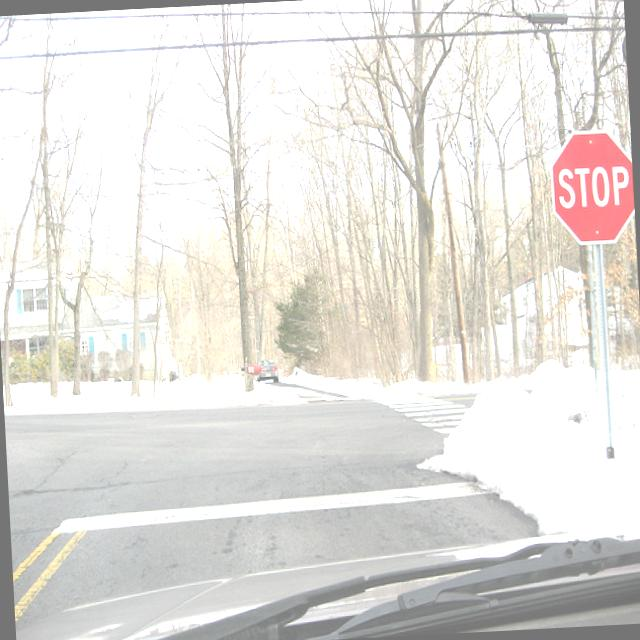Vehicle: (13, 529, 640, 640), (256, 358, 278, 382)
